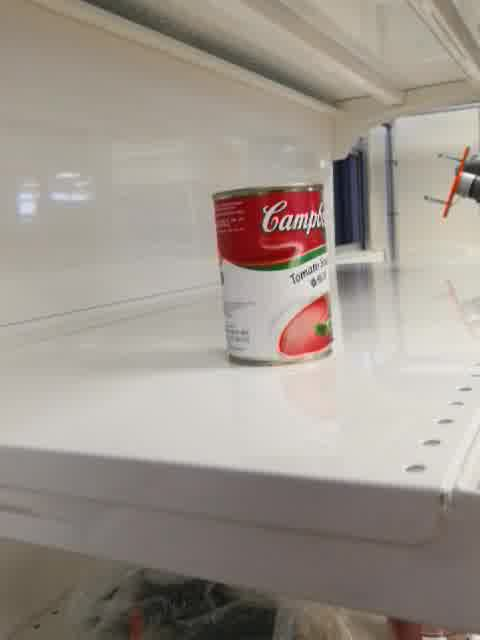tomatosoup: (212, 182, 335, 366)
